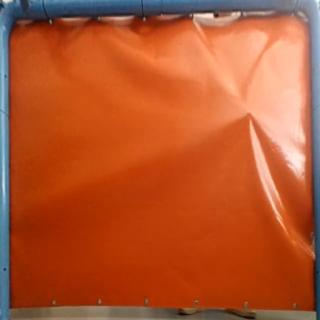Hit-hRxx: (241, 108, 254, 121)
